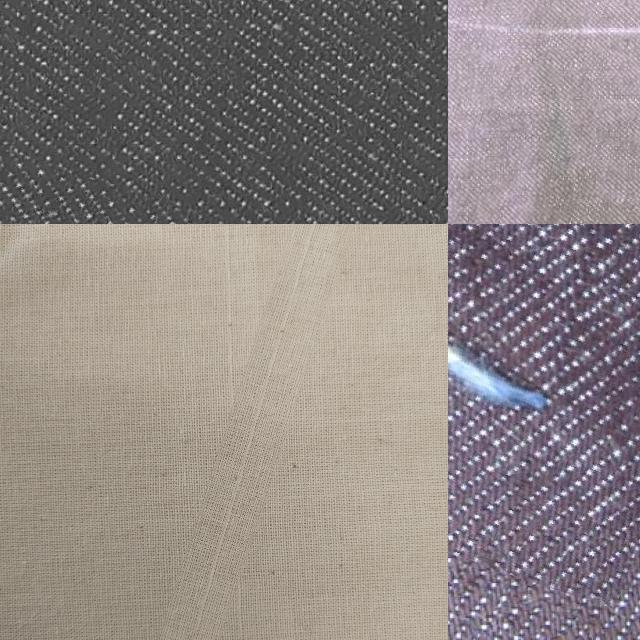pulled_or_thick_thread: (190, 227, 323, 639), (466, 19, 639, 42)
